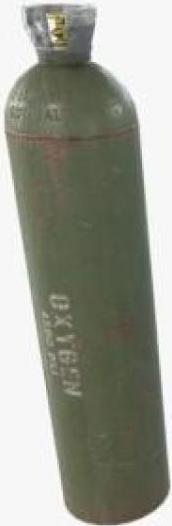cylinder: (1, 1, 172, 526)
